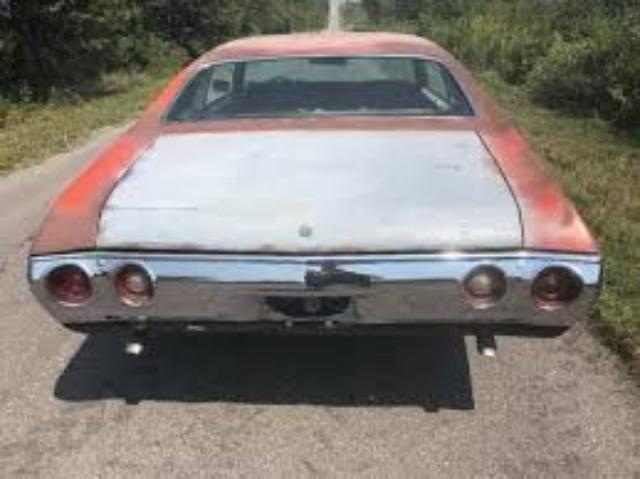chevelle-1972: (27, 30, 600, 353)
